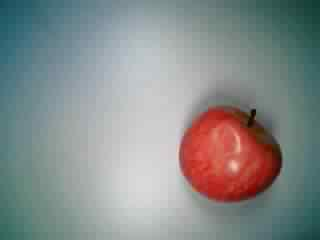apple: (179, 103, 283, 204)
